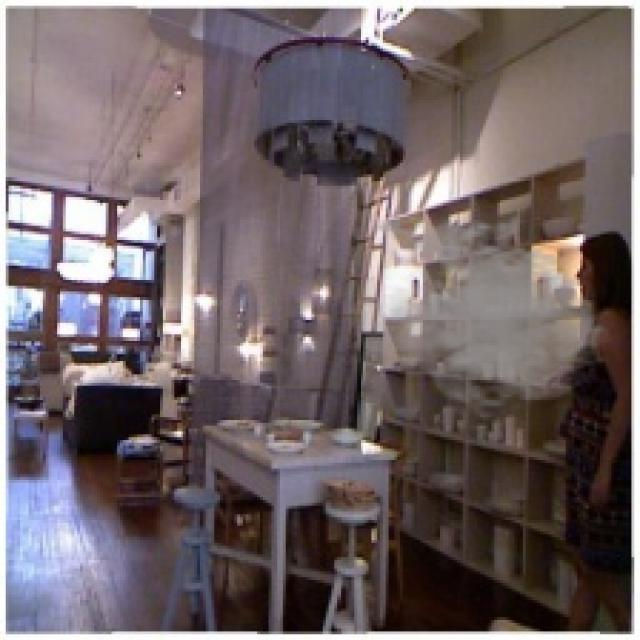Smoke: (332, 208, 614, 422)
